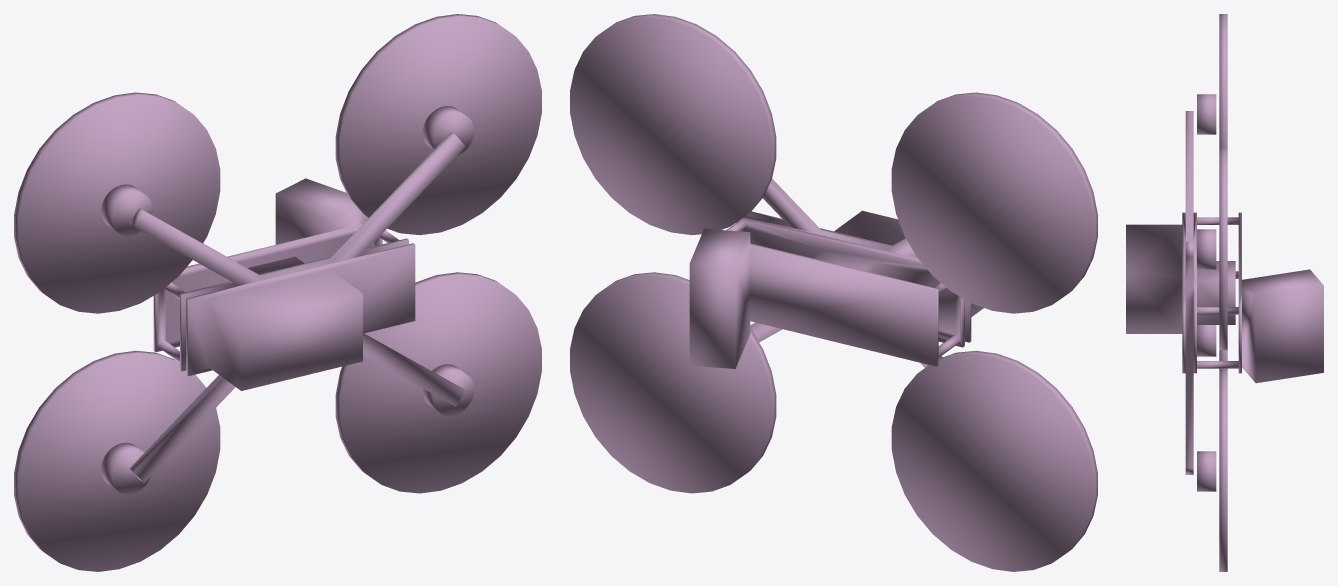
Rendered from quad_model.glb.
3 renders of one model, left to right at view 1: azimuth 30°, elevation 25°; view 2: azimuth 150°, elevation 25°; view 3: azimuth 270°, elevation 25°, orthographic. The views are drawn at different scales.
Parts seen in each view (by area): view 1: quad_model.off; view 2: quad_model.off; view 3: quad_model.off.
Boxes of the visible parts, left/top/right/bottom form: quad_model.off: left=14, top=14, right=541, bottom=571; quad_model.off: left=570, top=14, right=1097, bottom=571; quad_model.off: left=1126, top=14, right=1323, bottom=571.
Size of the model in its own units: 323 by 277 by 123.
